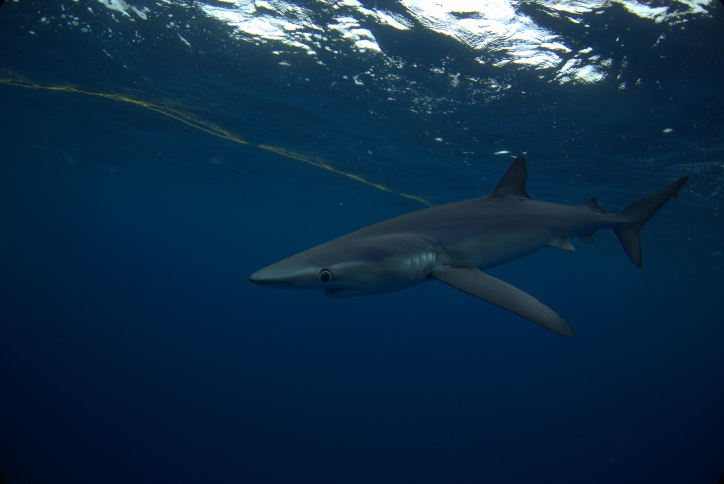Azul: (235, 116, 701, 355)
